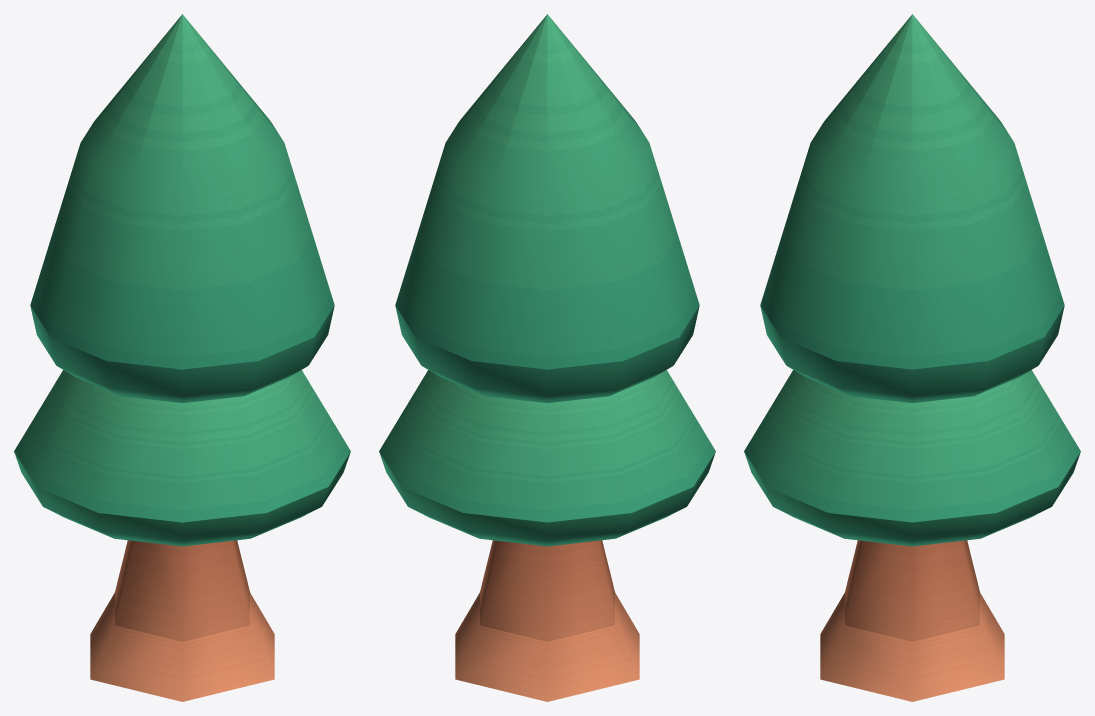
The model's file is tree-pine.glb.
3 renders of one model, left to right at view 1: azimuth 30°, elevation 25°; view 2: azimuth 150°, elevation 25°; view 3: azimuth 270°, elevation 25°, orthographic.
Visible parts, largest first — view 1: tree-pine, tree-pine.001; view 2: tree-pine, tree-pine.001; view 3: tree-pine, tree-pine.001.
Boxes of the visible parts, box(x1,y1,x2,y2) form: tree-pine: box(14, 14, 350, 546); tree-pine.001: box(90, 540, 274, 701); tree-pine: box(379, 14, 715, 546); tree-pine.001: box(455, 540, 639, 701); tree-pine: box(744, 14, 1080, 546); tree-pine.001: box(820, 540, 1004, 701).
Size of the model in its own units: 0.9485 by 2 by 0.9485.
1 material, 1 textured.
